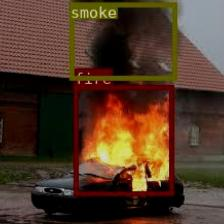fire: (73, 84, 173, 195)
smoke: (69, 1, 176, 79)
